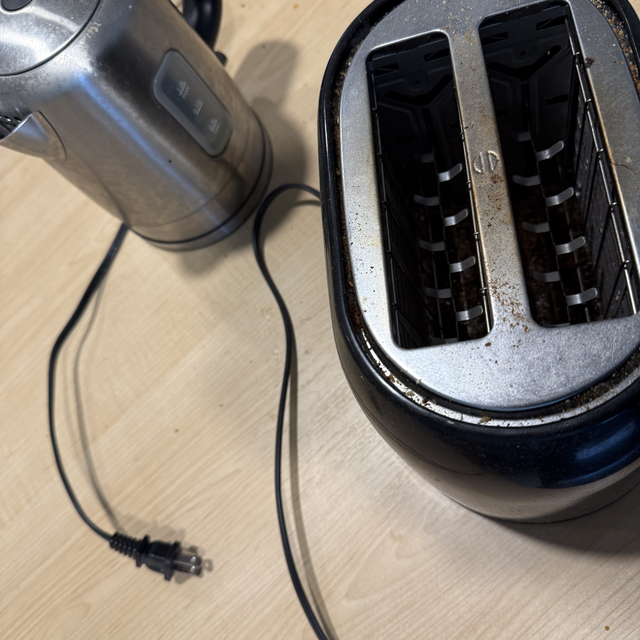Kettle: (0, 0, 275, 250)
Toaster: (315, 0, 640, 537)
